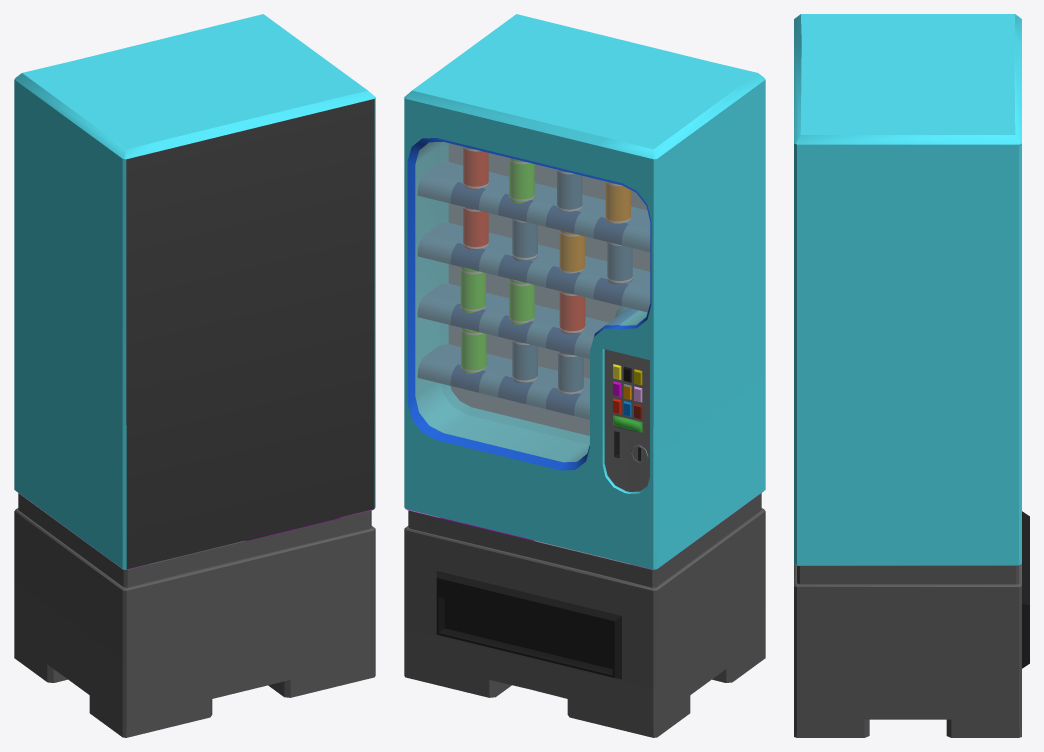
The model's file is cafeteria-refrigerator.glb.
3 views of the same model, side by side, from view 1: azimuth 30°, elevation 25°; view 2: azimuth 150°, elevation 25°; view 3: azimuth 270°, elevation 25° (orthographic). The views are drawn at different scales.
Parts seen in each view (by area): view 1: Object_4; view 2: Object_4, Object_6, Object_5; view 3: Object_4.
Part boxes in pixels (left/top/right/bottom): Object_4: left=14, top=14, right=375, bottom=737; Object_4: left=404, top=14, right=765, bottom=737; Object_6: left=415, top=142, right=650, bottom=462; Object_5: left=460, top=147, right=649, bottom=491; Object_4: left=794, top=14, right=1029, bottom=737.
Bounding box in the file's own units: 1.13 × 2.5 × 0.8915.
Materials: 3 (2 with a texture image).
